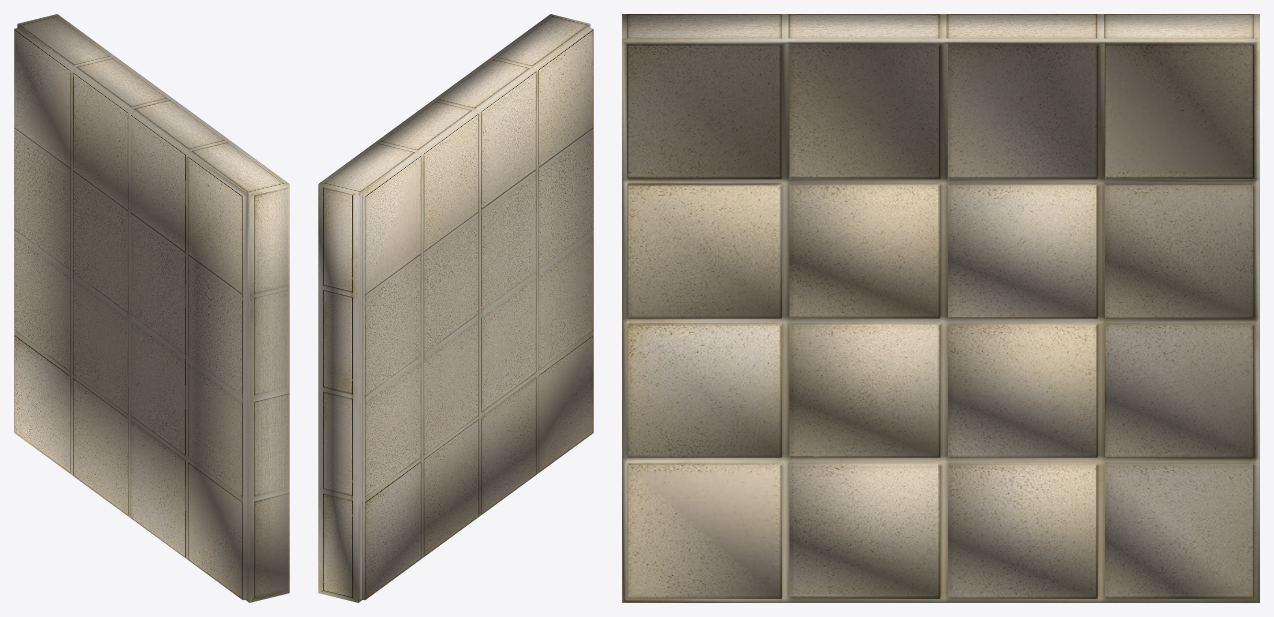
Rendered from tripo_convert_31252e50-3c53-479c-9124-9539a80f4aa9.fbx.
3 views of the same model, side by side, from view 1: azimuth 30°, elevation 25°; view 2: azimuth 150°, elevation 25°; view 3: azimuth 270°, elevation 25° (orthographic). The views are drawn at different scales.
Visible parts, largest first — view 1: tripo_node_31252e50; view 2: tripo_node_31252e50; view 3: tripo_node_31252e50.
Part boxes in pixels (x1,y1,x2,y2): tripo_node_31252e50: (14, 14, 289, 602); tripo_node_31252e50: (318, 14, 593, 602); tripo_node_31252e50: (622, 14, 1259, 602).
Bounding box in the file's own units: 0.1113 × 0.9707 × 0.998.
Materials: 1 (1 with a texture image).
